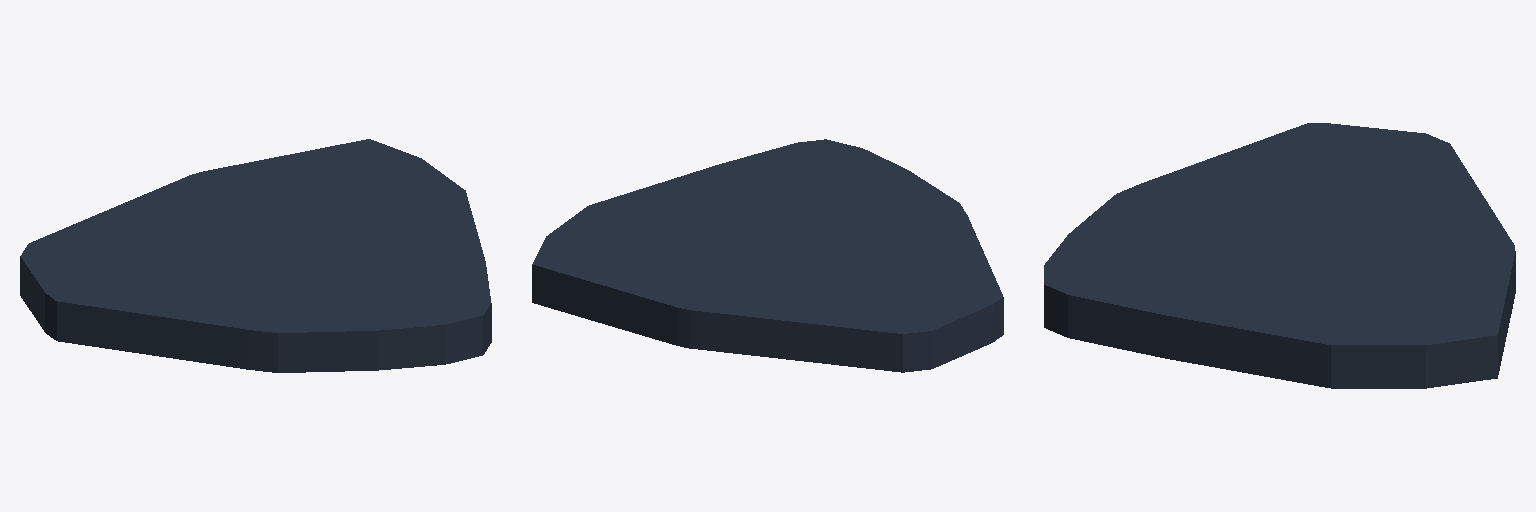
The robot description file, URDF, robot "table":
<?xml version="1.0"?>
<robot name="table">
  <!-- The table top of Leather dress shoe: a static convex slab, top face at z = 0. Load with a fixed base -->
  <mujoco>
    <compiler meshdir="../meshes/" discardvisual="true" balanceinertia="true" fusestatic="false" />
  </mujoco>
  <link name="table">
    <inertial>
      <mass value="20" />
      <inertia ixx="1" ixy="0" ixz="0" iyy="1" iyz="0" izz="1" />
    </inertial>
    <visual>
      <geometry>
        <mesh filename="../meshes/table.obj" />
      </geometry>
      <material name="table_color">
        <color rgba="0.224 0.263 0.322 1" />
      </material>
    </visual>
    <collision>
      <geometry>
        <mesh filename="../meshes/table.obj" />
      </geometry>
    </collision>
    <contact>
      <lateral_friction value="1" />
    </contact>
  </link>
</robot>

--- Facts derived from the render (not from the file) ---
3 views of the same robot in one strip: view 1: azimuth 30°, elevation 25°; view 2: azimuth 150°, elevation 25°; view 3: azimuth 270°, elevation 25° (orthographic).
Model table with 1 links and 0 joints (none), rooted at table, posed all joints at 0.
Visible links, largest first — view 1: table; view 2: table; view 3: table.
Link boxes in pixels (left/top/right/bottom): table: left=20, top=139, right=491, bottom=372; table: left=532, top=139, right=1003, bottom=372; table: left=1044, top=123, right=1515, bottom=388.
Size in the robot's own frame: 0.44 by 0.3948 by 0.04 metres.
1 mesh visuals loaded from 1 distinct referenced files (1 OBJ).
